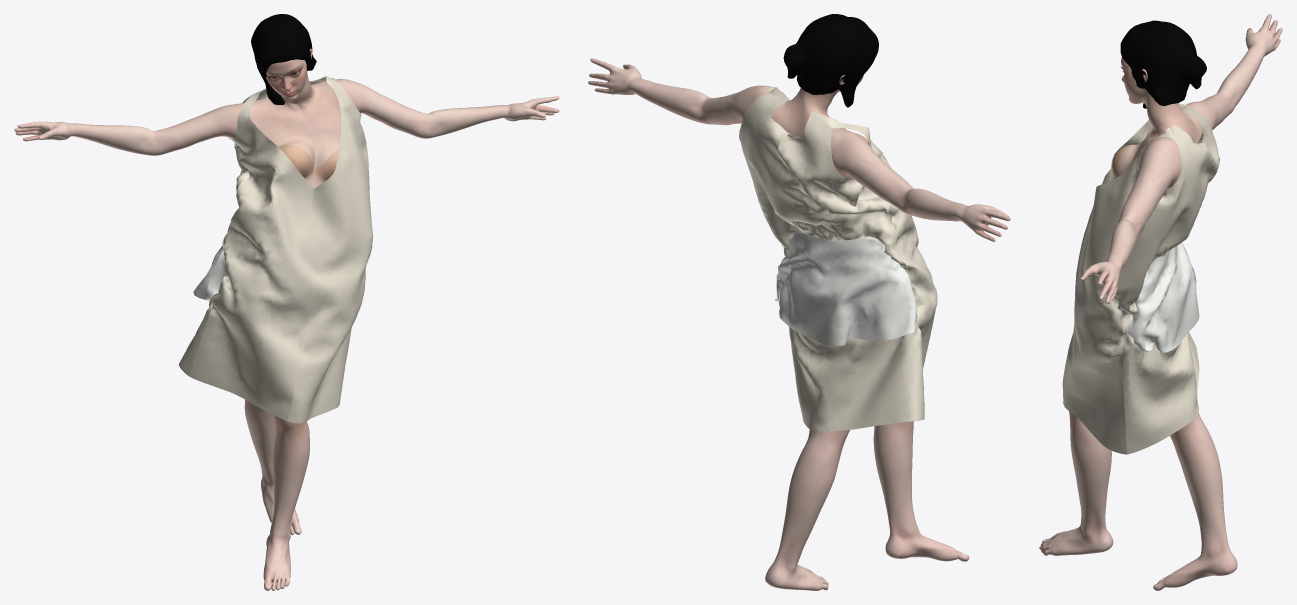
File: random.obj
3 renders of one model, left to right at view 1: azimuth 30°, elevation 25°; view 2: azimuth 150°, elevation 25°; view 3: azimuth 270°, elevation 25°, orthographic. The views are drawn at different scales.
Size of the model in its own units: 1601 by 1717 by 679.
